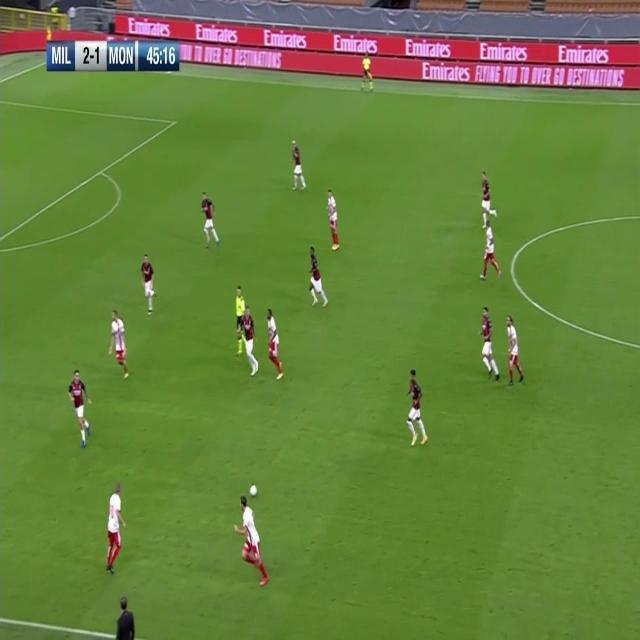ball: (249, 482, 258, 497)
player: (234, 496, 268, 589), (404, 366, 430, 448), (104, 481, 126, 576), (69, 367, 94, 448), (108, 306, 132, 381), (479, 307, 501, 385), (306, 244, 330, 310), (265, 308, 285, 382), (505, 314, 525, 386), (480, 221, 502, 283), (241, 306, 260, 377), (200, 190, 221, 249), (479, 169, 499, 222), (141, 252, 157, 316), (326, 188, 342, 252), (289, 139, 307, 193), (115, 594, 135, 640), (234, 282, 246, 348), (360, 51, 374, 95)
